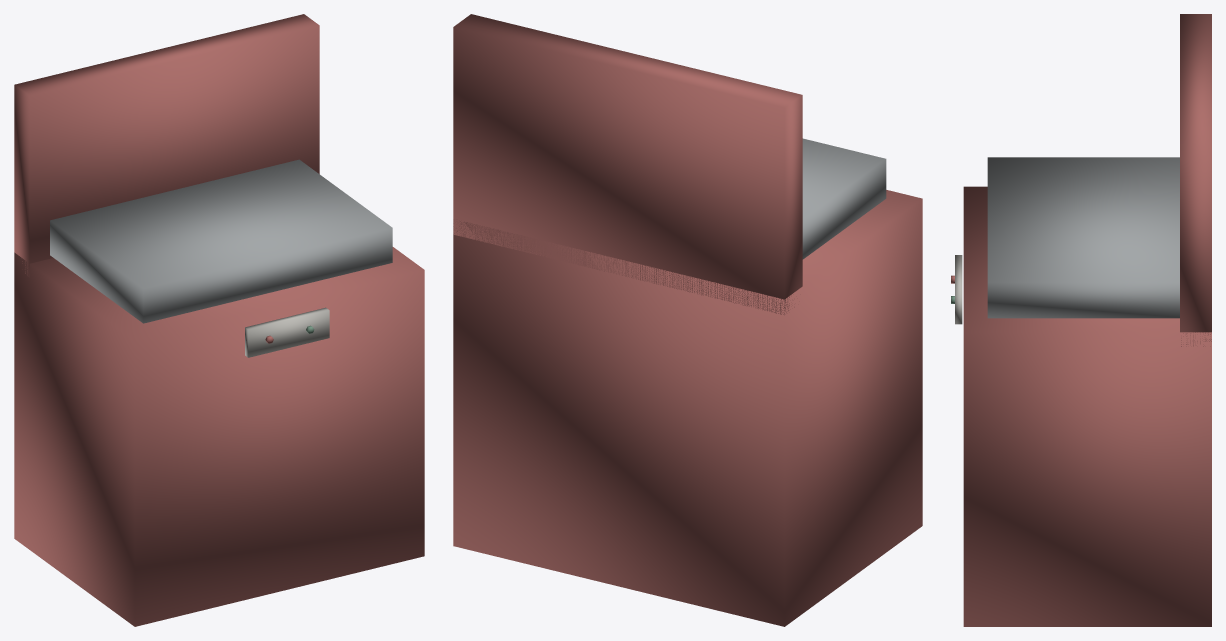
Rendered from parts_washer__reinforced.glb.
3 views of the same model, side by side, from view 1: azimuth 30°, elevation 25°; view 2: azimuth 150°, elevation 25°; view 3: azimuth 270°, elevation 25° (orthographic). The views are drawn at different scales.
Visible parts, largest first — view 1: world; view 2: world; view 3: world.
Boxes of the visible parts, box(x1,y1,x2,y2) form: world: box(14, 14, 424, 626); world: box(453, 14, 922, 626); world: box(951, 14, 1211, 626).
Bounding box in the file's own units: 0.8858 × 1.33 × 0.6705.
